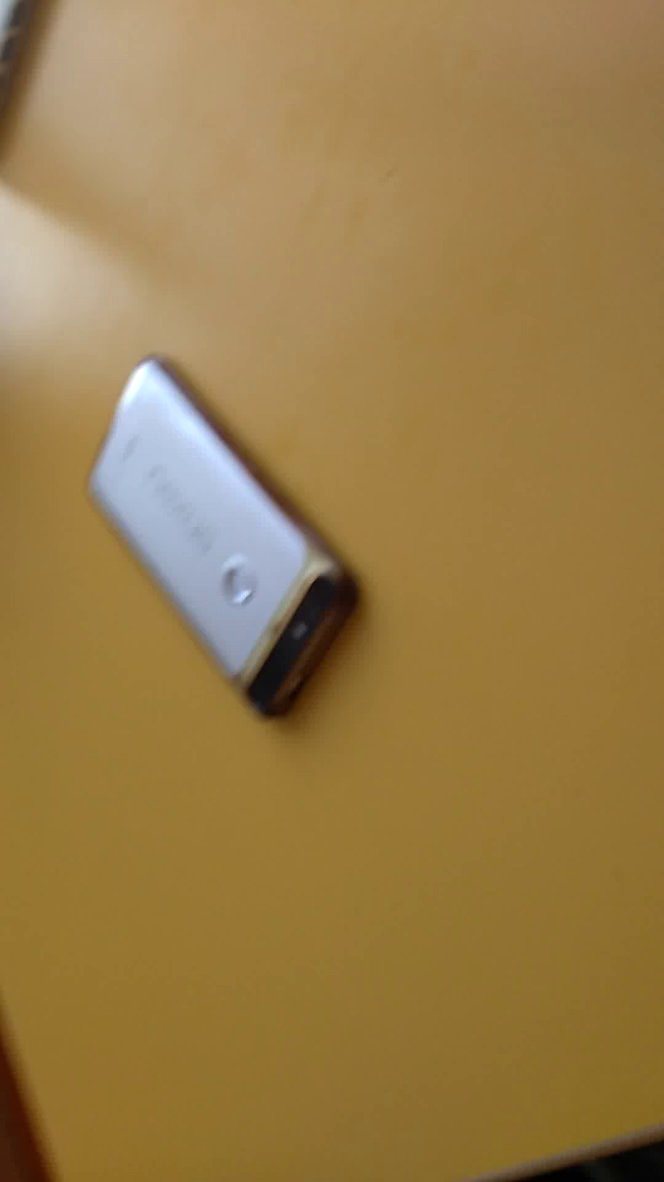phone: (71, 352, 399, 736)
